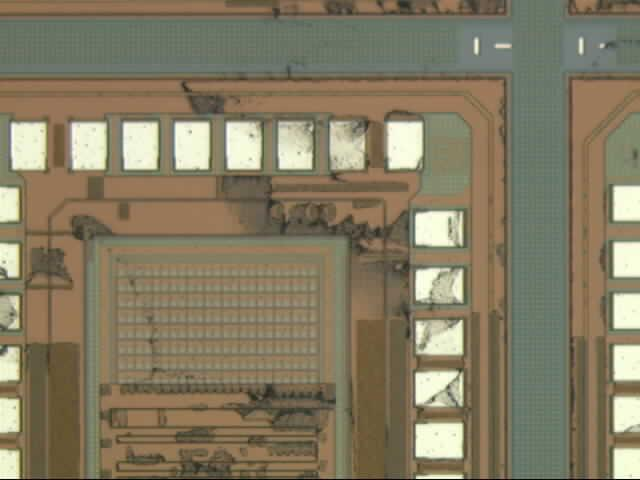PO CONTAMINATION: (1, 78, 473, 480)
